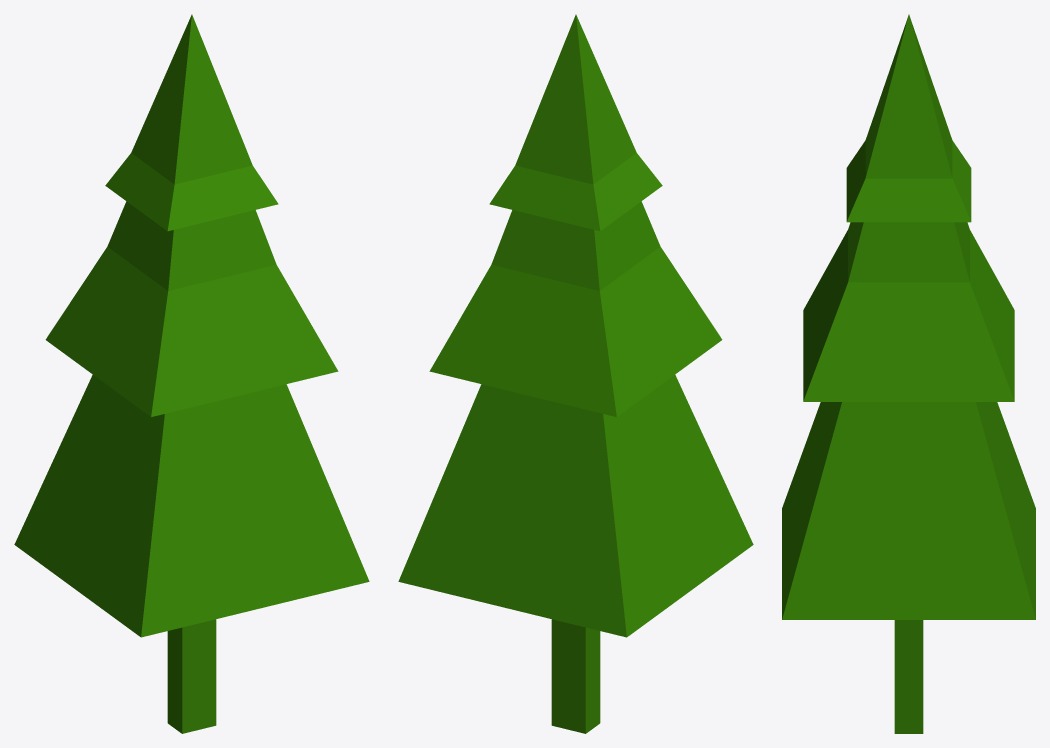
Rendered from Tree.fbx.
3 renders of one model, left to right at view 1: azimuth 30°, elevation 25°; view 2: azimuth 150°, elevation 25°; view 3: azimuth 270°, elevation 25°, orthographic.
Parts seen in each view (by area): view 1: Pyramid012; view 2: Pyramid012; view 3: Pyramid012.
Part boxes in pixels (x1=…): Pyramid012: x1=14, y1=14, x2=369, y2=733; Pyramid012: x1=398, y1=14, x2=753, y2=733; Pyramid012: x1=782, y1=14, x2=1035, y2=733.
Size of the model in its own units: 64.5 by 61.94 by 192.
